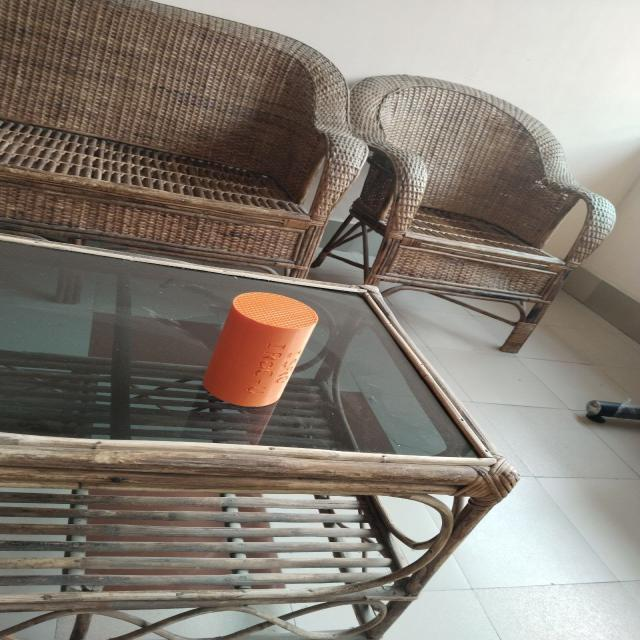Cylinder: (200, 290, 318, 408)
